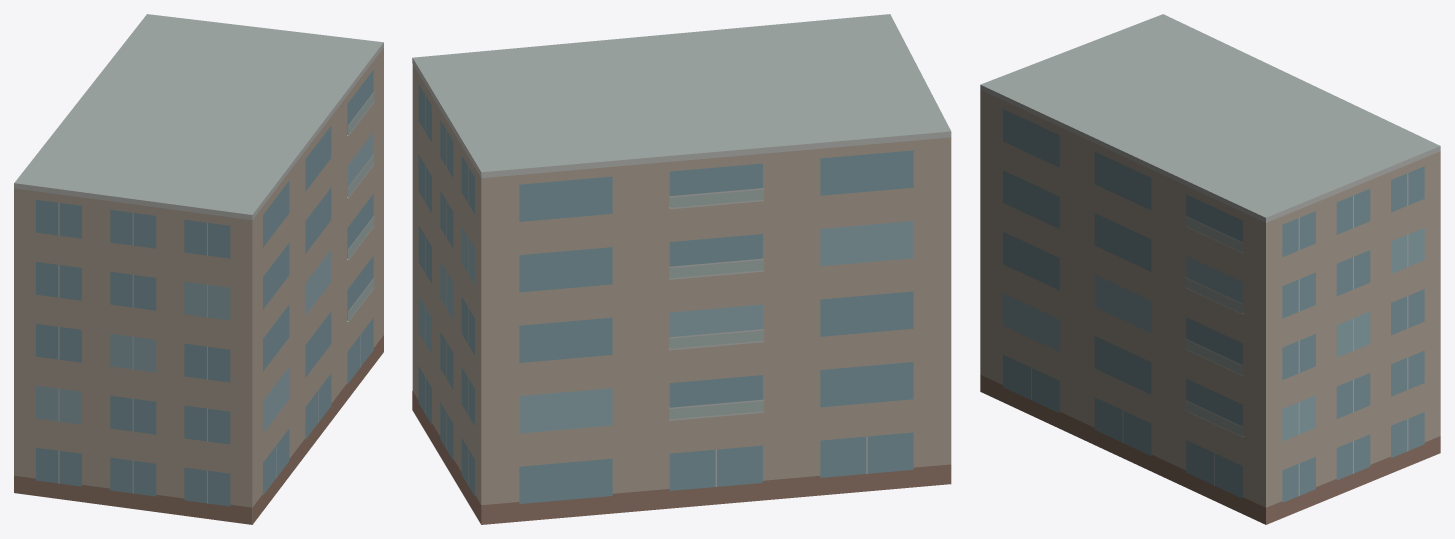
File: survey-upis-32566923.glb
3 views of the same model, side by side, from view 1: azimuth 30°, elevation 25°; view 2: azimuth 150°, elevation 25°; view 3: azimuth 270°, elevation 25° (orthographic). The views are drawn at different scales.
Parts seen in each view (by area): view 1: survey-upis-32566923.tmp; view 2: survey-upis-32566923.tmp; view 3: survey-upis-32566923.tmp.
Boxes of the visible parts, <box> form: survey-upis-32566923.tmp: <box>14,14,383,524</box>; survey-upis-32566923.tmp: <box>412,14,951,524</box>; survey-upis-32566923.tmp: <box>980,14,1440,524</box>.
Size of the model in its own units: 20.73 by 14.55 by 19.78.
